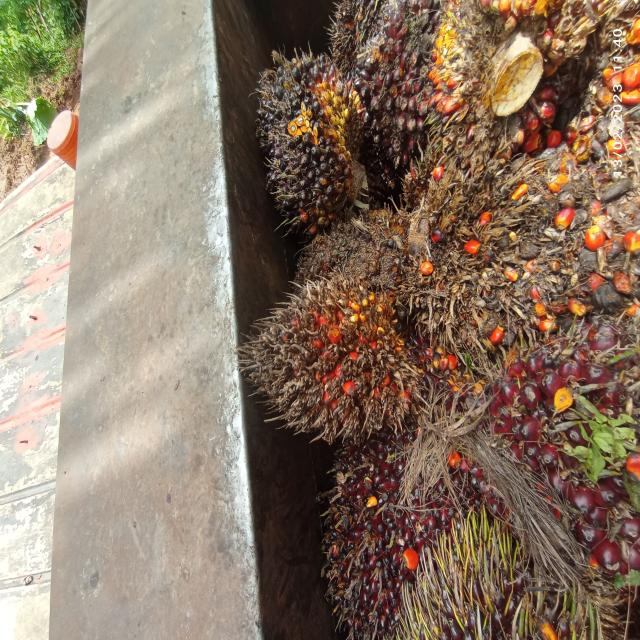fraksi 00: (247, 36, 385, 245)
fraksi 1: (312, 422, 489, 629)
fraksi 4: (245, 270, 419, 462)
